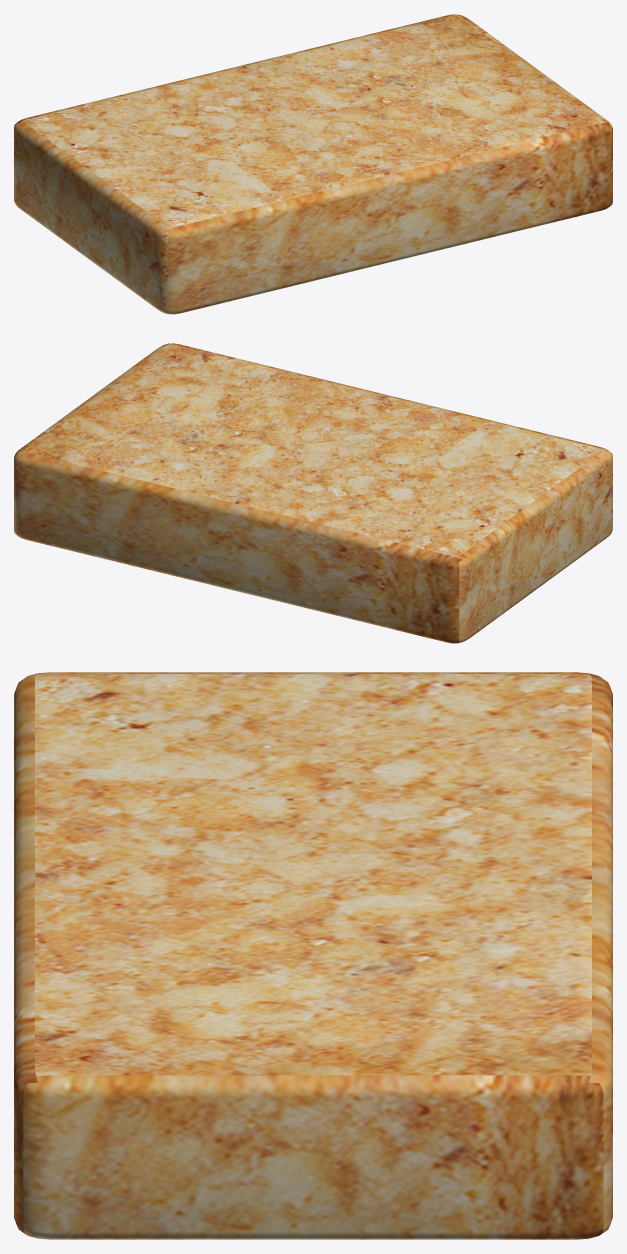
File: dwysbgbk.FBX
3 renders of one model, top to bottom at view 1: azimuth 30°, elevation 25°; view 2: azimuth 150°, elevation 25°; view 3: azimuth 270°, elevation 25°, orthographic. The views are drawn at different scales.
Visible parts, largest first — view 1: Box009; view 2: Box009; view 3: Box009.
Boxes of the visible parts, x1=… form: Box009: x1=14, y1=14, x2=612, y2=314; Box009: x1=14, y1=343, x2=612, y2=643; Box009: x1=14, y1=672, x2=612, y2=1239.
Size of the model in its own units: 0.0755 by 0.0139 by 0.0458.
